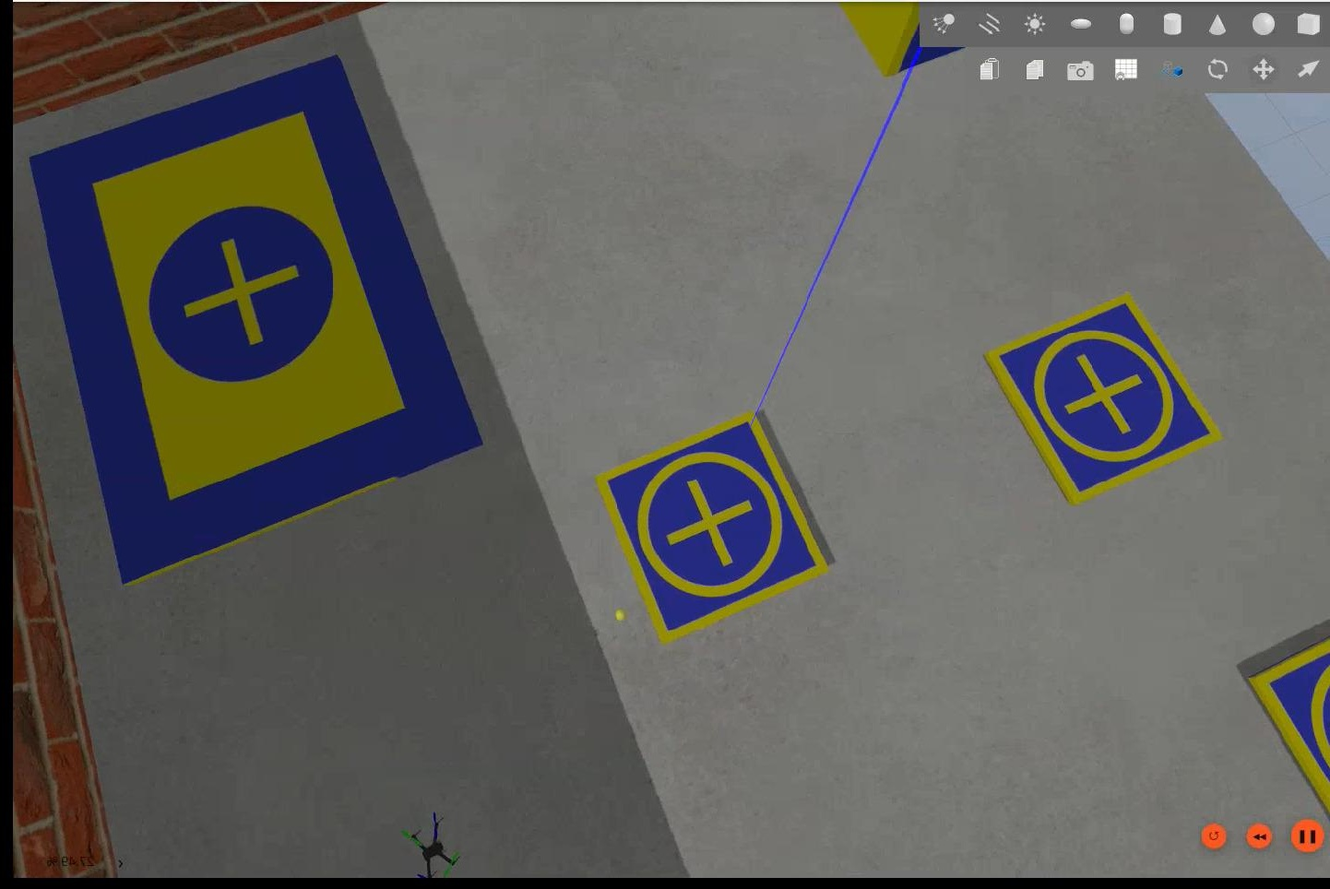large_base: (24, 49, 487, 583)
small_base: (592, 415, 832, 643), (980, 291, 1225, 512), (1249, 634, 1328, 820)
